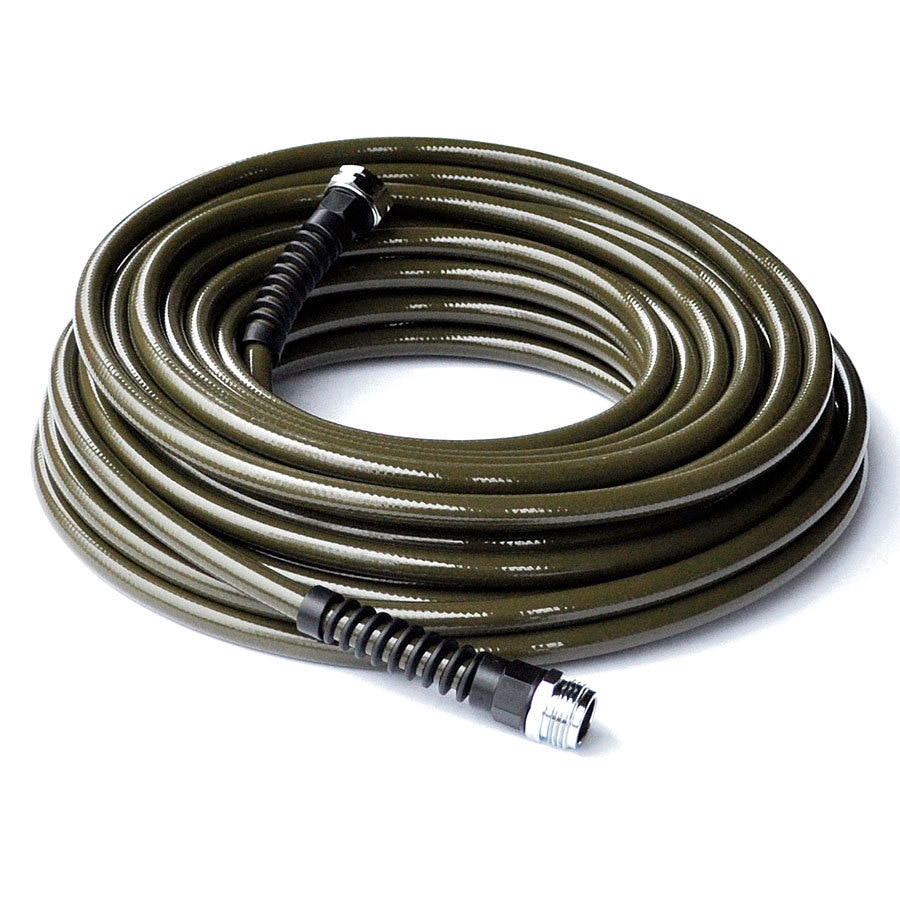Nonrec_Tangler: (28, 106, 888, 798)
